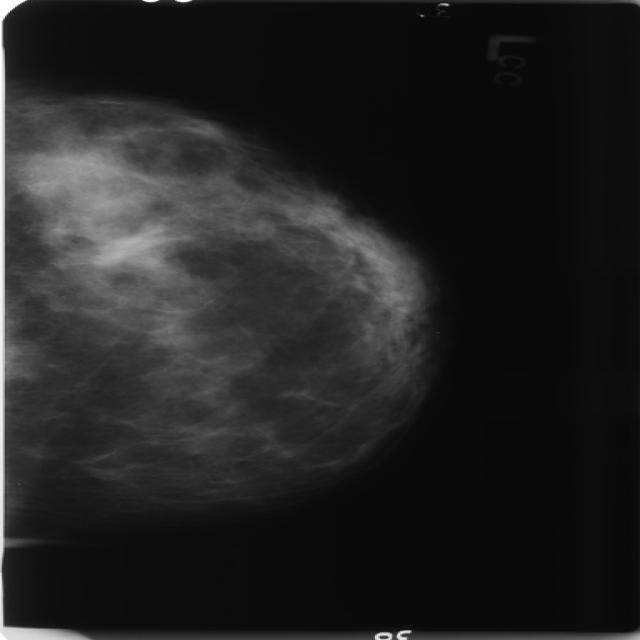tumour: (88, 226, 172, 266)
